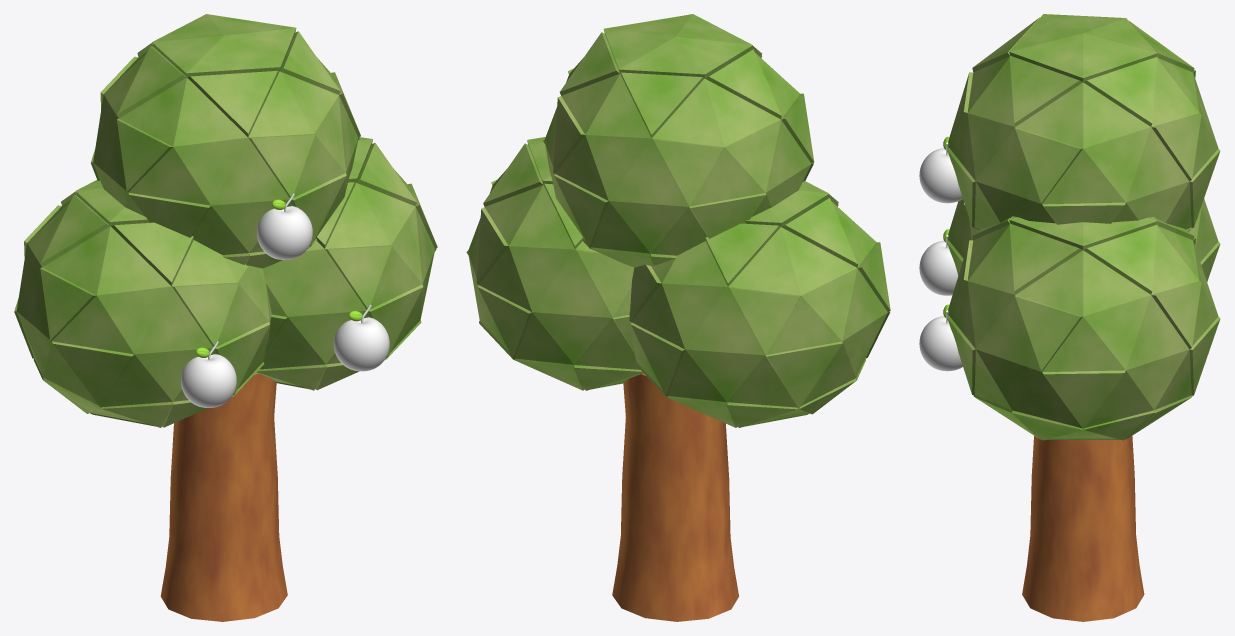
File: tree-5.glb
3 views of the same model, side by side, from view 1: azimuth 30°, elevation 25°; view 2: azimuth 150°, elevation 25°; view 3: azimuth 270°, elevation 25° (orthographic).
Visible parts, largest first — view 1: LeafCluster_5C, LeafCluster_5B, LeafCluster_5A, Trunk_Lv5, Apple_A, Apple_B, Apple_C; view 2: LeafCluster_5C, LeafCluster_5B, LeafCluster_5A, Trunk_Lv5; view 3: LeafCluster_5A, LeafCluster_5C, Trunk_Lv5, LeafCluster_5B, Apple_A, Apple_C, Apple_B.
Part boxes in pixels (x1,y1,x2,y2): LeafCluster_5C: (90,14,360,268); LeafCluster_5B: (14,180,271,427); LeafCluster_5A: (256,137,437,390); Trunk_Lv5: (160,373,287,621); Apple_A: (333,304,389,371); Apple_B: (181,341,236,407); Apple_C: (257,193,312,259); LeafCluster_5C: (543,14,814,267); LeafCluster_5B: (629,181,890,427); LeafCluster_5A: (466,137,643,390); Trunk_Lv5: (612,373,738,621); LeafCluster_5A: (947,216,1220,440); LeafCluster_5C: (947,14,1220,231); Trunk_Lv5: (1022,436,1144,621); LeafCluster_5B: (947,198,1220,281); Apple_A: (919,304,962,371); Apple_C: (919,136,962,203); Apple_B: (919,229,958,295).
Bounding box in the file's own units: 3.55 × 4.9 × 2.38.
Materials: 5 (2 with a texture image).
